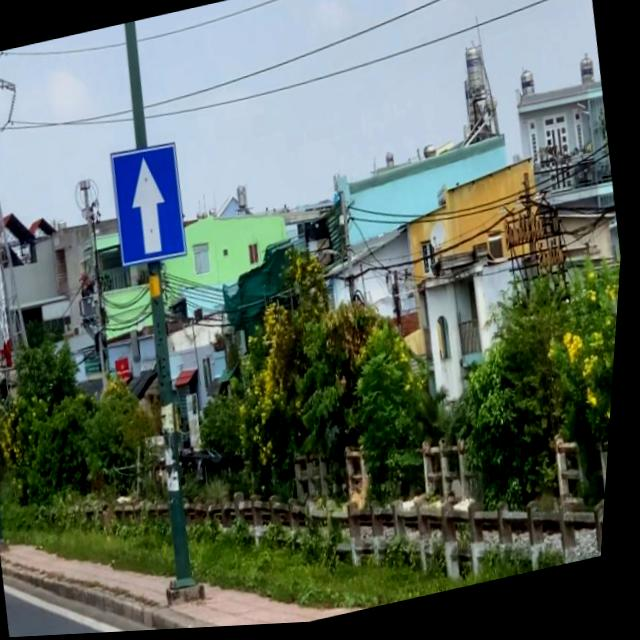Duong mot chieu: (106, 137, 198, 274)
